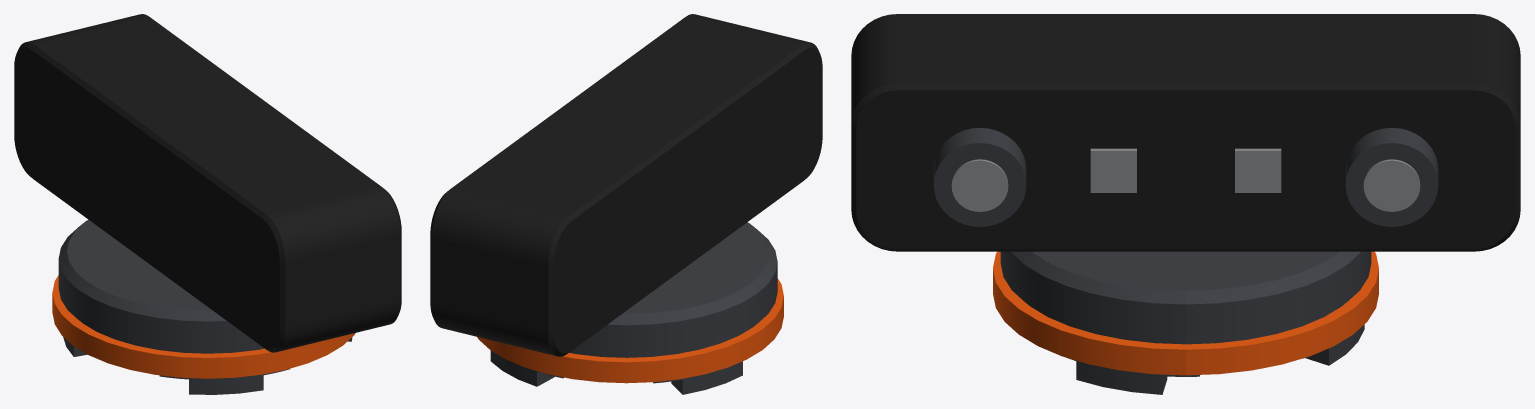
Rendered from module_eye.glb.
The picture shows the model from 3 angles, left to right: view 1: azimuth 30°, elevation 25°; view 2: azimuth 150°, elevation 25°; view 3: azimuth 270°, elevation 25°; orthographic projection. The views are drawn at different scales.
Parts seen in each view (by area): view 1: eye_bar, eye_plinth, eye_port_in_ring, eye_port_in_flange; view 2: eye_bar, eye_plinth, eye_port_in_ring, eye_port_in_flange; view 3: eye_bar, eye_plinth, eye_port_in_ring, eye_lens_barrels, eye_lens_glass, eye_ir_windows, eye_port_in_flange.
Part boxes in pixels (x1,y1,x2,y2): eye_bar: [14, 14, 401, 352]; eye_plinth: [58, 219, 262, 351]; eye_port_in_ring: [52, 275, 355, 378]; eye_port_in_flange: [63, 321, 352, 394]; eye_bar: [430, 14, 822, 356]; eye_plinth: [571, 222, 777, 355]; eye_port_in_ring: [477, 278, 783, 383]; eye_port_in_flange: [490, 325, 755, 394]; eye_bar: [851, 14, 1520, 251]; eye_plinth: [1000, 251, 1371, 341]; eye_port_in_ring: [993, 251, 1378, 375]; eye_lens_barrels: [933, 128, 1438, 226]; eye_lens_glass: [951, 159, 1420, 211]; eye_ir_windows: [1090, 148, 1281, 192]; eye_port_in_flange: [1028, 304, 1364, 394].
Size of the model in its own units: 0.075 by 0.058 by 0.13.
